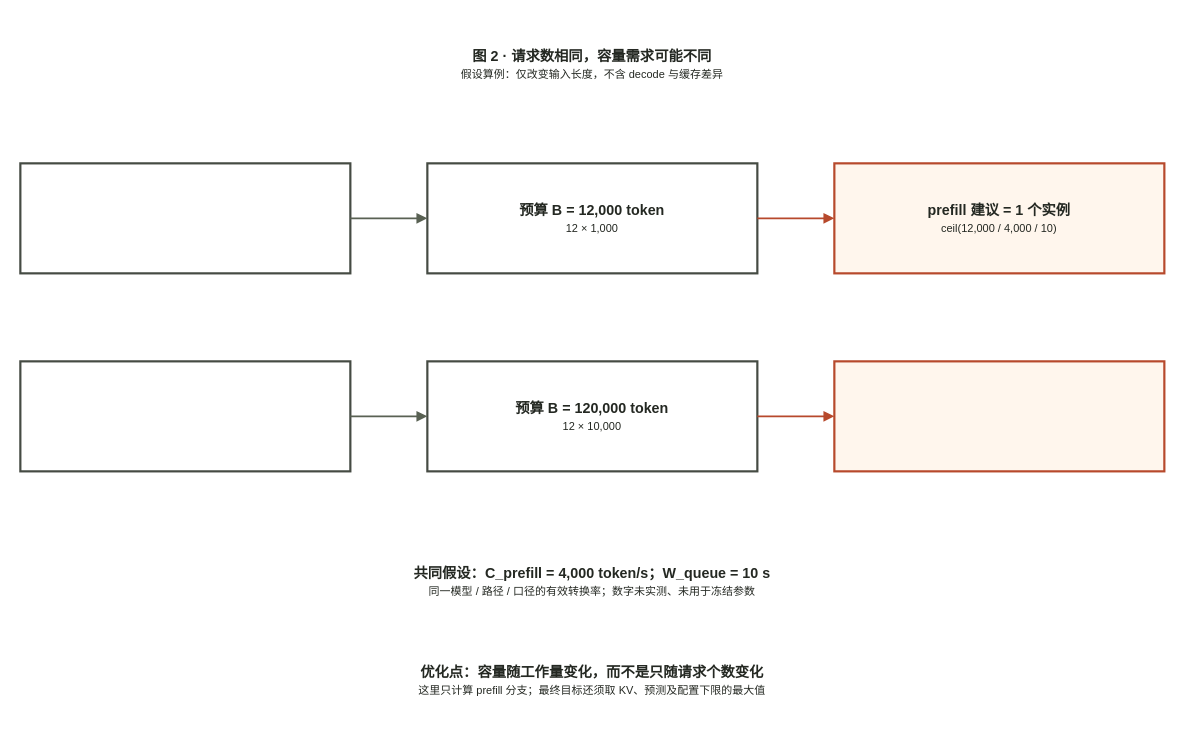
Image size: 1184x738. Some labels were removed from this diagram. The centre of each missing label's shape, as x and y in pixels:
12 个短输入请求 每个 1,000 token: (185,218)
12 个长输入请求 每个 10,000 token: (185,416)
prefill 建议 = 3 个实例 ceil(120,000 / 4,000 / 10): (999,416)
